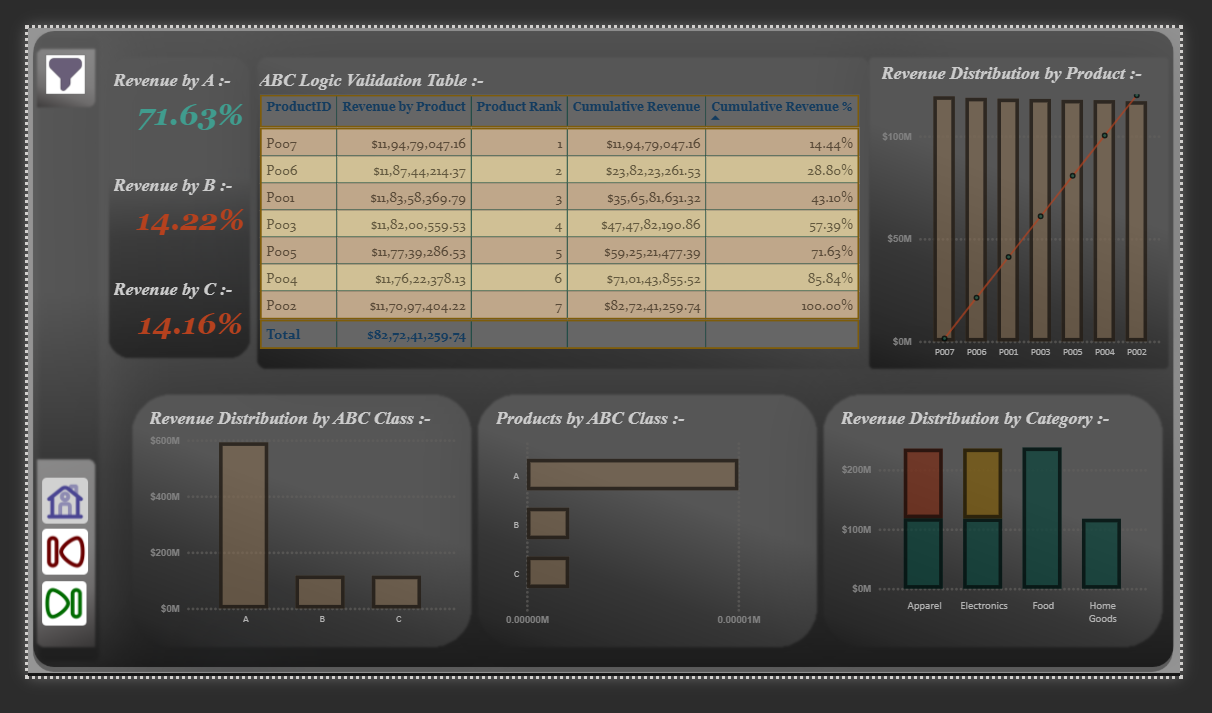

The page's visual inventory and layout, read from the dashboard file:
{"tool":"powerbi","page":{"name":"Product Revenue Concentration :-","canvas":[1280,720],"ordinal":2},"visuals":[{"type":"card","title":"Revenue by C :-","fields":{"Values":["MyMeasures.C Revenue %"]},"box":[90,278.4,180,75],"z":0,"group":"g2"},{"type":"columnChart","title":"Revenue Distribution by Category :-","fields":{"Category":["Dim_Product.Category"],"Series":["ABC_Table.ABC Class"],"Y":["MyMeasures.Revenue by ABC"]},"box":[898.3,421.8,350,250],"z":0,"group":"g1"},{"type":"actionButton","title":"Previous Page  Button ","box":[12.2,551.1,59.1,60.6],"z":0,"group":"g3"},{"type":"group","id":"g1","title":"All Visuals ","box":[130,38.3,1133.3,633.5],"z":500},{"type":"group","id":"g2","title":"All KPI","box":[90,46.7,180.4,306.7],"z":1000},{"type":"card","title":"Revenue by B :-","fields":{"Values":["MyMeasures.B Revenue %"]},"box":[90.4,162.5,180,75],"z":1000,"group":"g2"},{"type":"clusteredBarChart","title":"Products by ABC Class :-","fields":{"Category":["ABC_Table.ABC Class"],"Y":["MyMeasures.Products by ABC"]},"box":[514.2,421.8,350,250],"z":1000,"group":"g1"},{"type":"actionButton","title":"Next Page Button ","box":[12.2,608.6,57.5,59.1],"z":1000,"group":"g3"},{"type":"group","id":"g3","title":"Navigation","box":[12.2,21.1,60,646.6],"z":2000},{"type":"card","title":"Revenue by A :-","fields":{"Values":["MyMeasures.A Revenue %"]},"box":[90,46.7,180,75],"z":2000,"group":"g2"},{"type":"clusteredColumnChart","title":"Revenue Distribution by ABC Class :-","fields":{"Category":["ABC_Table.ABC Class"],"Y":["MyMeasures.Revenue by ABC"]},"box":[130,421.8,350,250],"z":2000,"group":"g1"},{"type":"actionButton","title":"Home Button ","box":[12.2,495,59.1,60.6],"z":2000,"group":"g3"},{"type":"actionButton","title":"Filter Button ","box":[12.2,21.1,60,60],"z":3000,"group":"g3"},{"type":"lineClusteredColumnComboChart","title":"Revenue Distribution by Product :-","fields":{"Category":["Dim_Product.ProductID"],"Y":["MyMeasures.Revenue by Product"],"Y2":["MyMeasures.Cumulative Revenue %"]},"box":[943.3,38.3,320,336.7],"z":3000,"group":"g1"},{"type":"tableEx","title":"ABC Logic Validation Table :-","fields":{"Values":["Dim_Product.ProductID","MyMeasures.Revenue by Product","MyMeasures.Product Rank","MyMeasures.Cumulative Revenue","MyMeasures.Cumulative Revenue %"]},"box":[251.7,46.6,690,336.7],"z":4000,"group":"g1"}]}

Visuals, with their boxes on the page's 1280x720 design canvas (x1, y1, x2, y2). These are canvas units, not pixel positions in the 1212x713 screenshot, which may show the page scaled, cropped or inside an application window:
"Revenue by C :-" card: 90, 278, 270, 353
"Revenue Distribution by Category :-" columnChart: 898, 422, 1248, 672
"Previous Page  Button " actionButton: 12, 551, 71, 612
"All Visuals " group: 130, 38, 1263, 672
"All KPI" group: 90, 47, 270, 353
"Revenue by B :-" card: 90, 162, 270, 238
"Products by ABC Class :-" clusteredBarChart: 514, 422, 864, 672
"Next Page Button " actionButton: 12, 609, 70, 668
"Navigation" group: 12, 21, 72, 668
"Revenue by A :-" card: 90, 47, 270, 122
"Revenue Distribution by ABC Class :-" clusteredColumnChart: 130, 422, 480, 672
"Home Button " actionButton: 12, 495, 71, 556
"Filter Button " actionButton: 12, 21, 72, 81
"Revenue Distribution by Product :-" lineClusteredColumnComboChart: 943, 38, 1263, 375
"ABC Logic Validation Table :-" tableEx: 252, 47, 942, 383
